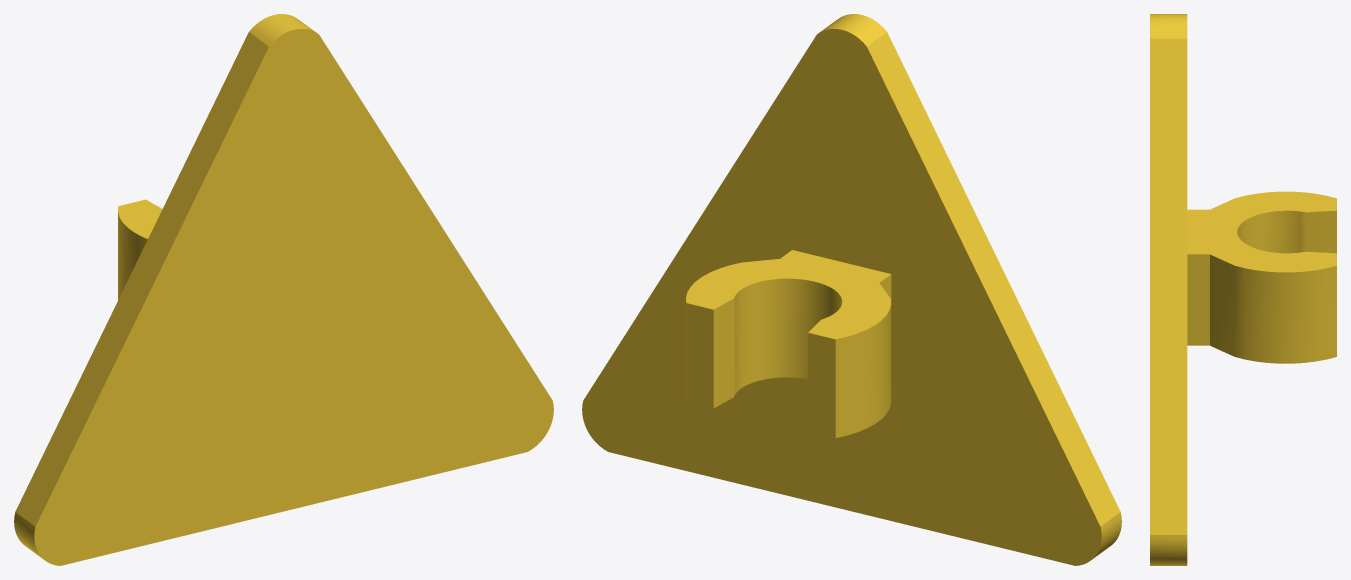
Rendered from Sign.dae.
The picture shows the model from 3 angles, left to right: view 1: azimuth 30°, elevation 25°; view 2: azimuth 150°, elevation 25°; view 3: azimuth 270°, elevation 25°; orthographic projection. The views are drawn at different scales.
Parts seen in each view (by area): view 1: Inner-Node-UntitledModel_dot_io-0; view 2: Inner-Node-UntitledModel_dot_io-0; view 3: Inner-Node-UntitledModel_dot_io-0.
Part boxes in pixels (box(x1,y1,x2,y2)): Inner-Node-UntitledModel_dot_io-0: box(14, 14, 553, 565); Inner-Node-UntitledModel_dot_io-0: box(582, 14, 1121, 565); Inner-Node-UntitledModel_dot_io-0: box(1150, 14, 1336, 565).
Size of the model in its own units: 43.75 by 38.56 by 14.75.
